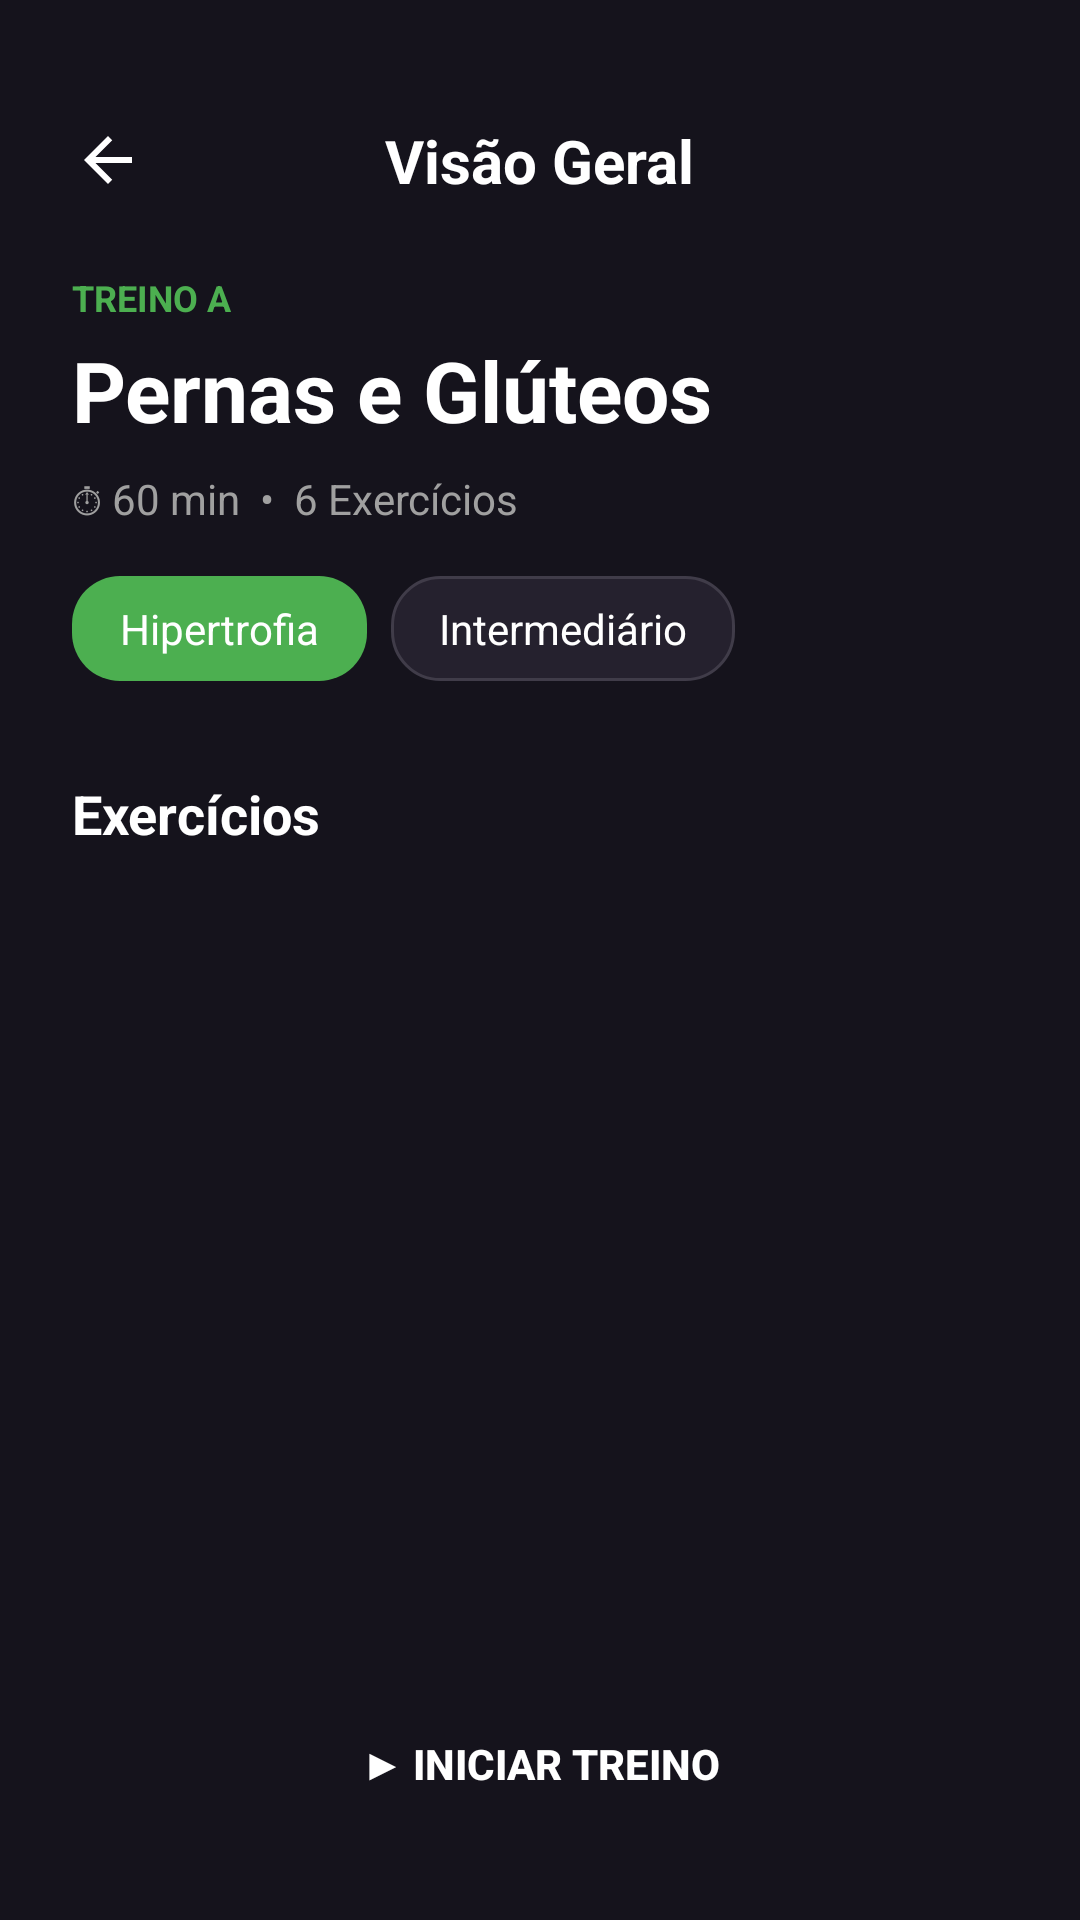

Icons on this 1080×1920 Android screen, each with the point to tap as point (x, y):
arrow back: point (108, 160)
